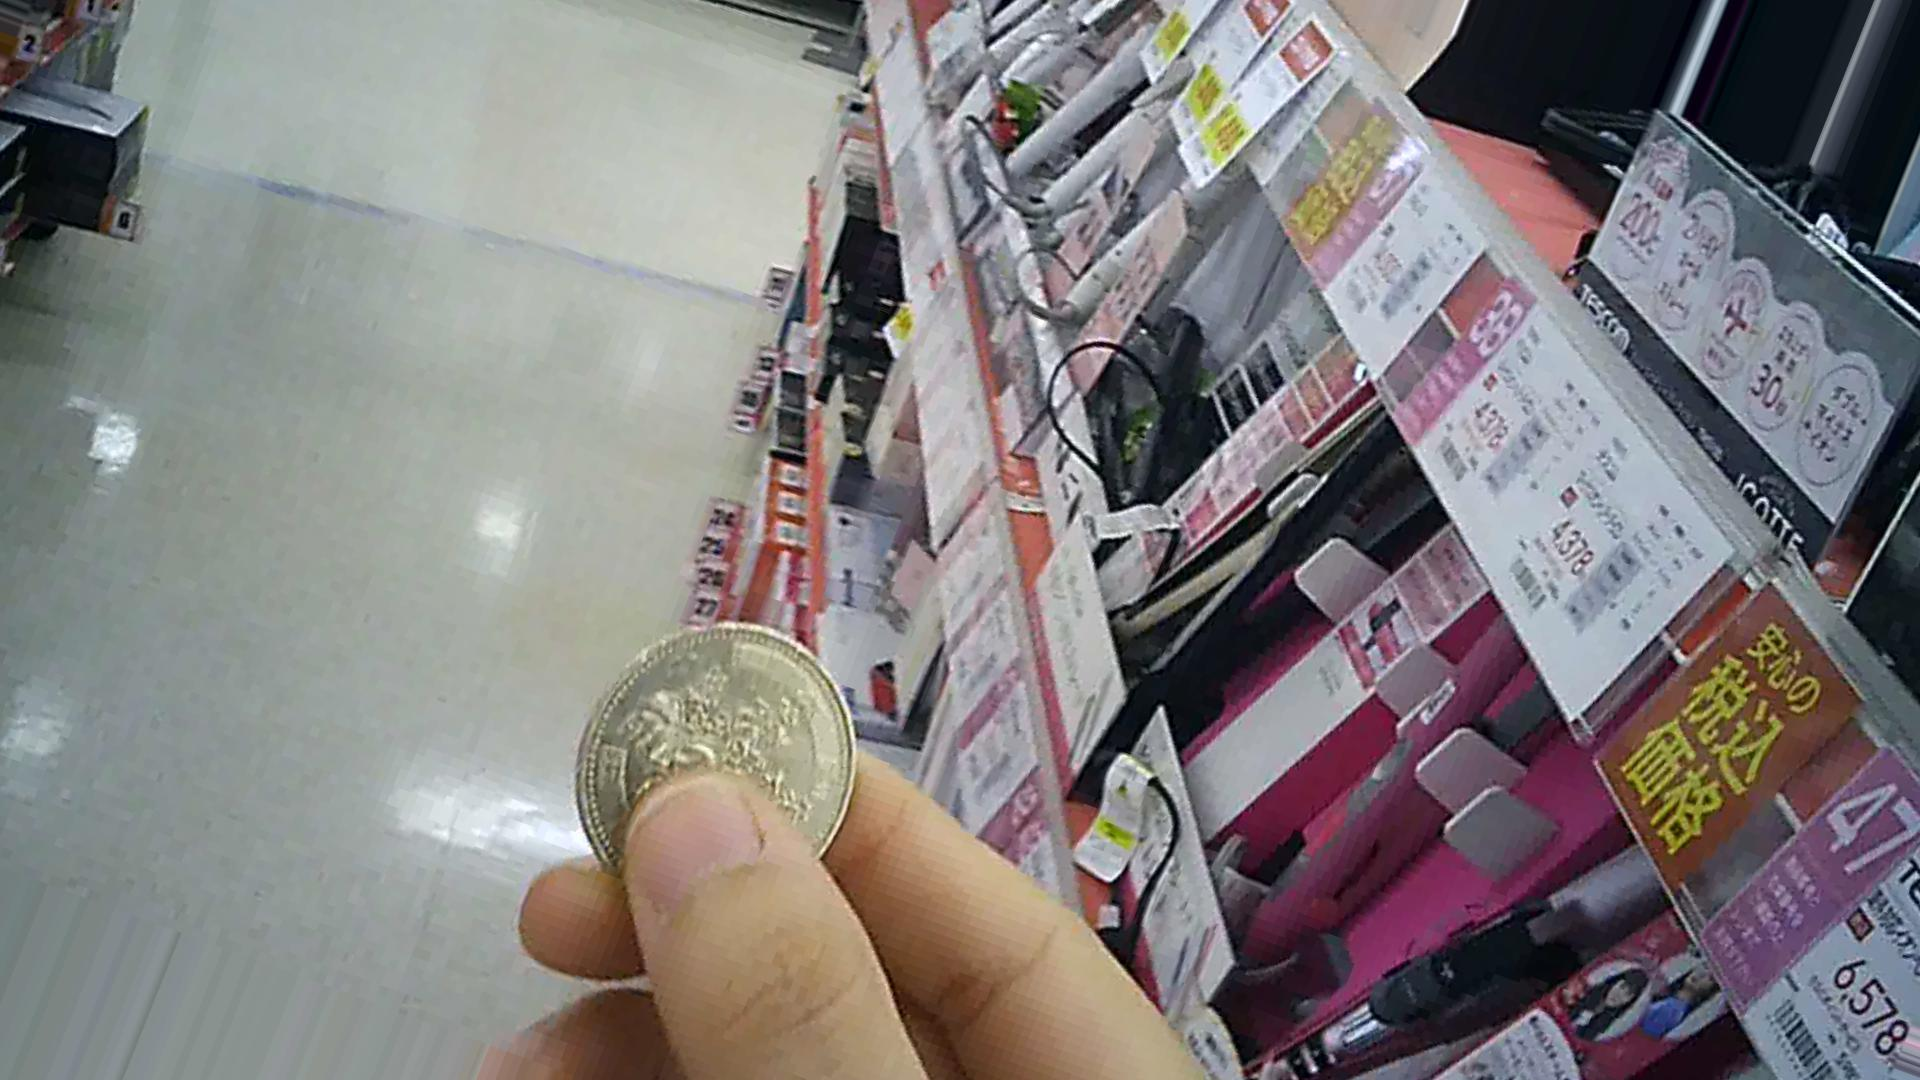500 Yen: (566, 621, 858, 903)
